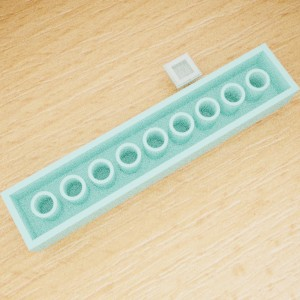lego: (0, 43, 300, 251), (162, 52, 202, 89)
